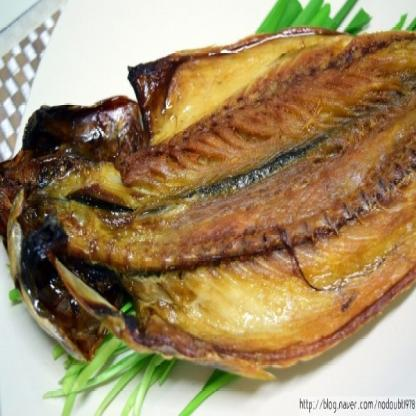Peixe: (0, 21, 416, 383)
